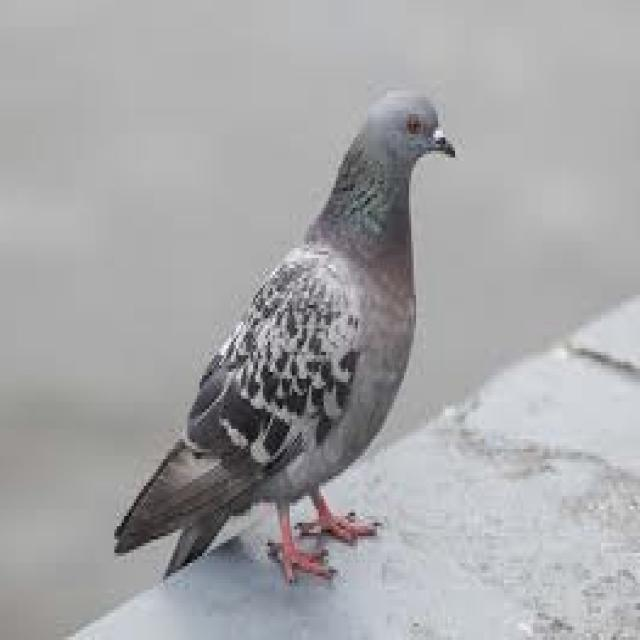pigeon: (117, 90, 455, 576)
